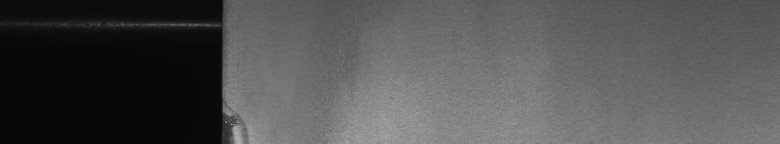hb: (232, 104, 252, 136)
